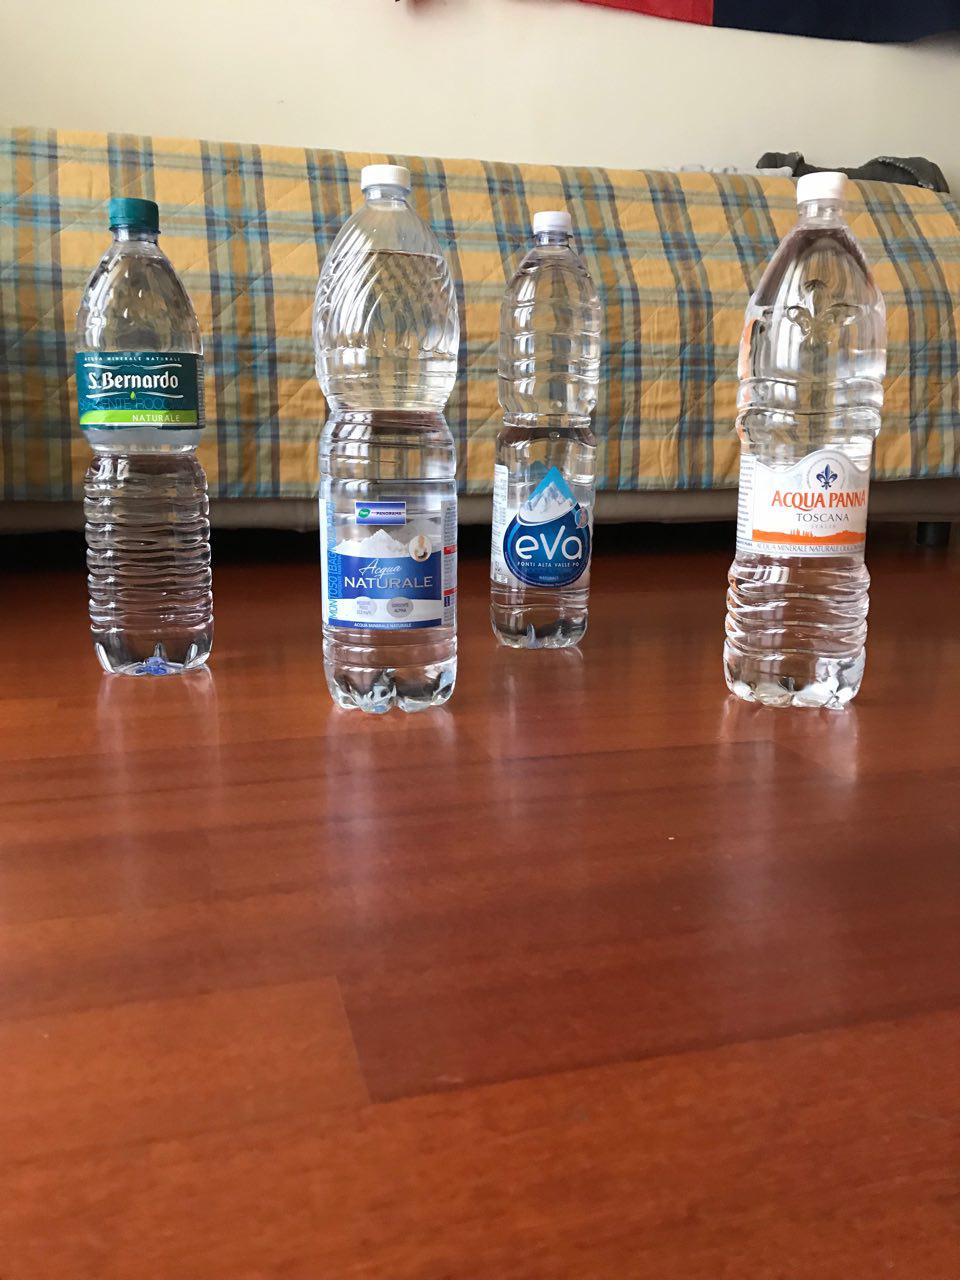san_bernardo: (73, 196, 215, 676)
